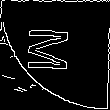M_E: (29, 32, 81, 78)
